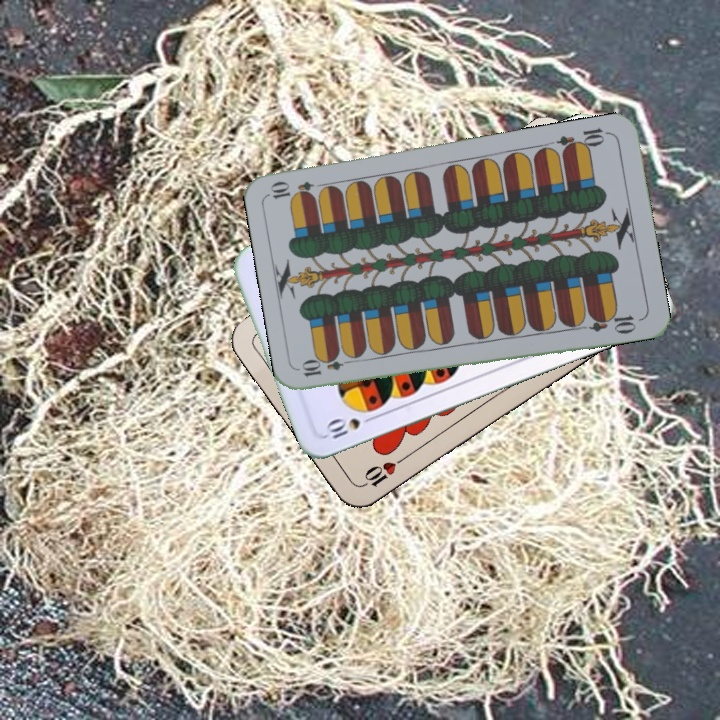E10: (553, 124, 612, 157), (298, 353, 357, 380)
H10: (357, 452, 409, 490)
S10: (321, 411, 379, 442)
